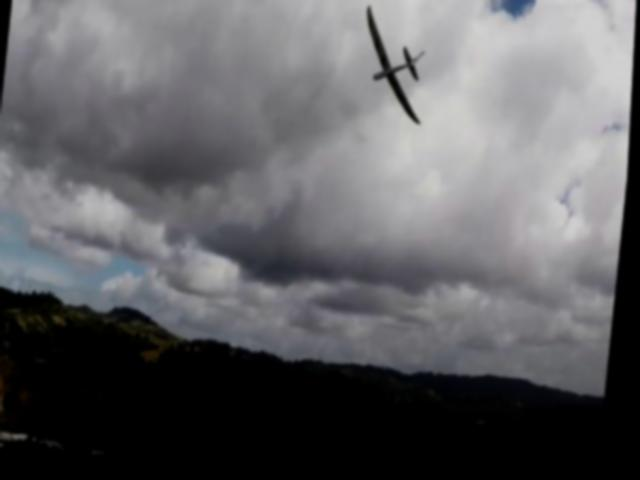iha: (351, 7, 437, 149)
